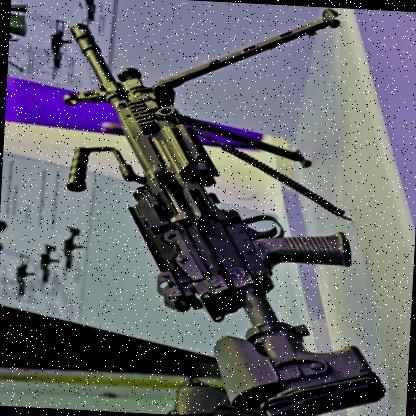rifle: (43, 0, 367, 416), (61, 224, 90, 278), (46, 23, 72, 82), (10, 253, 36, 301), (38, 238, 61, 288), (76, 0, 110, 25)
